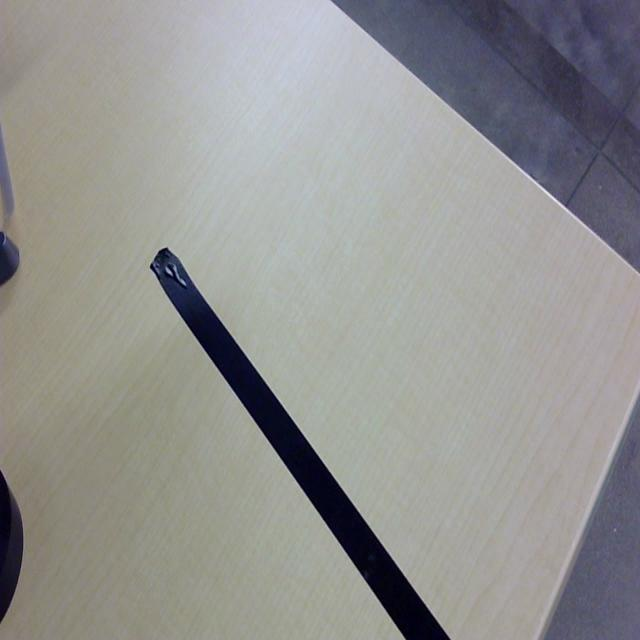tape: (148, 246, 449, 640)
